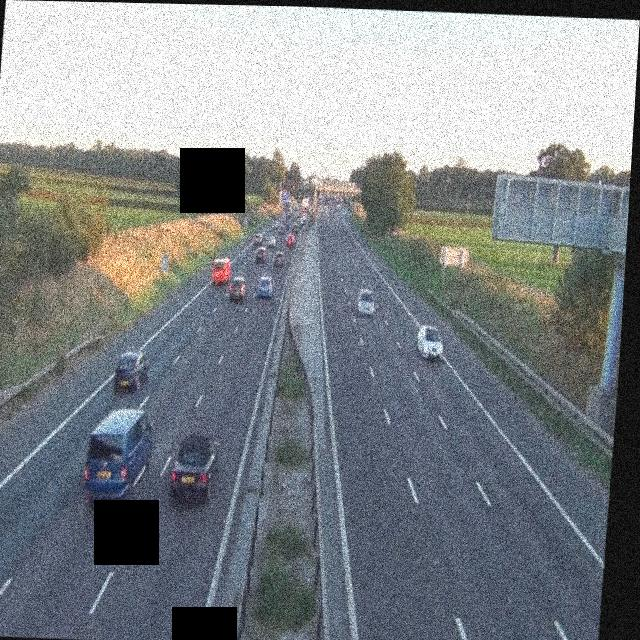car: (81, 404, 155, 502), (169, 433, 220, 503), (112, 349, 150, 393), (414, 322, 445, 361), (355, 286, 376, 316), (210, 257, 232, 285), (228, 274, 248, 301), (255, 273, 274, 297), (273, 249, 285, 266), (254, 245, 266, 261), (252, 230, 263, 245), (285, 232, 295, 246), (266, 234, 276, 247), (269, 219, 278, 232), (294, 218, 302, 231)
